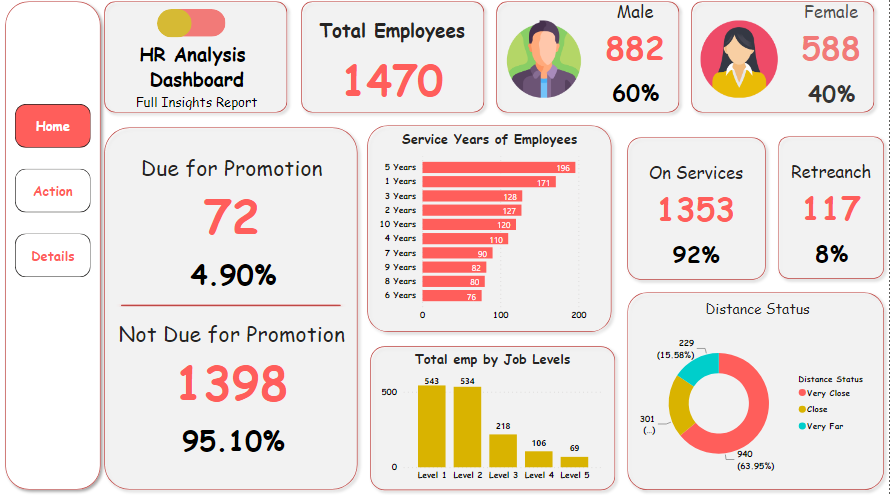

Layout of this report page (visuals, bound fields, positions):
{"tool":"powerbi","page":{"name":"Home","canvas":[1280,720],"ordinal":0},"visuals":[{"type":"shape","box":[0,0,155.2,720],"z":0},{"type":"shape","box":[705.5,0,280.5,178.1],"z":0,"group":"g11"},{"type":"shape","box":[237,19.8,89.6,40.4],"z":0,"group":"g1"},{"type":"card","title":"Total Employees","fields":{"Values":["All Measures.%Female"]},"box":[1128.1,113.5,136.5,56],"z":0,"group":"g4"},{"type":"card","title":"Total Employees","fields":{"Values":["All Measures.%due promotion"]},"box":[154.3,365,363.4,73.4],"z":0,"group":"g16"},{"type":"card","title":"Total Employees","fields":{"Values":["All Measures.%not due"]},"box":[154.3,603.2,363.4,73.4],"z":0,"group":"g17"},{"type":"card","title":"Male","fields":{"Values":["All Measures.Male"]},"box":[845,7.2,138,105.4],"z":1000,"group":"g20"},{"type":"card","title":"Female","fields":{"Values":["All Measures.Female"]},"box":[1126.7,7.2,138,106.3],"z":1000,"group":"g4"},{"type":"shape","box":[227.1,19.8,49.5,41],"z":1000,"group":"g1"},{"type":"shape","box":[142.3,181.1,382.3,538.9],"z":1000,"group":"g6"},{"type":"card","title":"Due for Promotion","fields":{"Values":["All Measures.Due for Promotion"]},"box":[150.5,225.7,367.2,139.3],"z":1000,"group":"g16"},{"type":"card","title":"Retreanch","fields":{"Values":["All Measures.retrench"]},"box":[1126.7,236.7,138,106.3],"z":1000,"group":"g15"},{"type":"card","title":"On Services","fields":{"Values":["All Measures.On Service"]},"box":[904,238.6,195.4,106.3],"z":1000,"group":"g12"},{"type":"shape","box":[893.9,418.2,386.6,301.8],"z":1000},{"type":"card","title":"Not Due for Promotion","fields":{"Values":["All Measures.not due"]},"box":[150.5,463.9,367.2,139.3],"z":1000,"group":"g17"},{"type":"shape","box":[142.9,0,280.5,178.1],"z":2000,"group":"g1"},{"type":"shape","box":[425,0,280.5,178.1],"z":2000,"group":"g10"},{"type":"card","title":"Total Employees","fields":{"Values":["All Measures.% Male"]},"box":[846.4,112.6,136.5,55.6],"z":2000,"group":"g20"},{"type":"shape","box":[520.2,178.2,369.3,314.7],"z":2000,"group":"g7"},{"type":"shape","box":[893.9,195.4,217,222.8],"z":2000},{"type":"card","title":"Total Employees","fields":{"Values":["All Measures.%retrench"]},"box":[1128.1,343,136.5,56],"z":2000,"group":"g15"},{"type":"card","title":"Total Employees","fields":{"Values":["All Measures.%On Service"]},"box":[906,344.9,193.4,56],"z":2000,"group":"g12"},{"type":"textbox","box":[155.2,60.4,257.2,110],"z":3000,"group":"g1"},{"type":"shape","box":[1110.9,194,169.6,222.8],"z":3000},{"type":"shape","box":[524.6,495.8,369.6,225.1],"z":3000,"group":"g8"},{"type":"group","id":"g1","title":"Group 1","box":[142.9,0,280.5,178.1],"z":4000},{"type":"shape","box":[986,0,280.5,178.1],"z":4000,"group":"g5"},{"type":"group","id":"g2","title":"Group 3","box":[425,0,280.5,178.1],"z":5000},{"type":"group","id":"g3","title":"Group 2","box":[705.5,0,280.5,178.1],"z":6000},{"type":"group","id":"g4","title":"Group 2","box":[1126.7,7.2,138,162.4],"z":7000},{"type":"image","box":[718.6,31.6,127.9,120.7],"z":8000},{"type":"group","id":"g5","title":"Group 6","box":[986,0,280.5,178.1],"z":9000},{"type":"group","id":"g6","title":"Group 12","box":[142.3,181.1,382.3,538.9],"z":10000},{"type":"group","id":"g7","title":"Group 13","box":[520.2,178.2,369.3,314.7],"z":11000},{"type":"group","id":"g8","title":"Group 14","box":[524.6,495.8,369.3,224.2],"z":12000},{"type":"card","title":"Total Employees","fields":{"Values":["All Measures.Total emp"]},"box":[436.5,31.6,255.8,136.5],"z":12002,"group":"g10"},{"type":"group","id":"g9","title":"Group 4","box":[425,0,280.5,178.1],"z":12004,"group":"g2"},{"type":"image","box":[1000.2,31.6,126.5,120.7],"z":12007,"group":"g5"},{"type":"group","id":"g10","title":"Group 7","box":[425,0,280.5,178.1],"z":12010,"group":"g9"},{"type":"group","id":"g11","title":"Group 5","box":[705.5,0,280.5,178.1],"z":12012,"group":"g3"},{"type":"group","id":"g12","title":"Group 16","box":[904,238.6,195.4,162.4],"z":13000},{"type":"group","id":"g13","title":"Group 11","box":[150.5,225.7,367.2,449.8],"z":14000,"group":"g6"},{"type":"group","id":"g14","title":"Group 2","box":[150.5,225.7,367.2,212.7],"z":14000,"group":"g13"},{"type":"group","id":"g15","title":"Group 16","box":[1126.7,236.7,138,162.4],"z":14000},{"type":"group","id":"g16","title":"Group 9","box":[150.5,225.7,367.2,212.7],"z":14002,"group":"g14"},{"type":"group","id":"g17","title":"Group 10","box":[150.5,463.9,367.2,212.7],"z":14002,"group":"g18"},{"type":"clusteredBarChart","title":"Service Years of Employees","fields":{"Category":["HR Analytics Data.Service Years"],"Y":["All Measures.Total emp"]},"box":[540.3,192.6,329.1,284.6],"z":15000,"group":"g7"},{"type":"donutChart","title":"Distance Status","fields":{"Category":["HR Analytics Data.Distance Status"],"Y":["All Measures.Total emp"]},"box":[915.4,436.9,349.2,271.6],"z":15000},{"type":"group","id":"g18","title":"Group 2","box":[150.5,463.9,367.2,212.7],"z":15000,"group":"g13"},{"type":"pageNavigator","box":[12.9,146.6,129.3,270.2],"z":16000},{"type":"columnChart","fields":{"Y":["All Measures.Total emp"],"Category":["HR Analytics Data.Job Levels"]},"box":[545.1,509,329.1,199.8],"z":16000,"group":"g8"},{"type":"shape","box":[166.9,437.4,332.9,11.5],"z":16001,"group":"g13"},{"type":"group","id":"g19","title":"Group 15","box":[845,7.2,138,161],"z":16004,"group":"g11"},{"type":"group","id":"g20","title":"Group 16","box":[845,7.2,138,161],"z":16004,"group":"g19"}]}

Visuals, with their boxes in screenshot pixels (x1, y1, x2, y2), scaled from the page's 1280x720 canvas onto the 890x495 screenshot:
shape: (0, 0, 108, 494)
shape: (491, 0, 686, 122)
shape: (165, 14, 227, 41)
"Total Employees" card: (784, 78, 879, 117)
"Total Employees" card: (107, 251, 360, 301)
"Total Employees" card: (107, 415, 360, 465)
"Male" card: (588, 5, 683, 77)
"Female" card: (783, 5, 879, 78)
shape: (158, 14, 192, 42)
shape: (99, 125, 365, 494)
"Due for Promotion" card: (105, 155, 360, 251)
"Retreanch" card: (783, 163, 879, 236)
"On Services" card: (629, 164, 764, 237)
shape: (622, 288, 889, 494)
"Not Due for Promotion" card: (105, 319, 360, 415)
shape: (99, 0, 294, 122)
shape: (296, 0, 491, 122)
"Total Employees" card: (589, 77, 683, 116)
shape: (362, 123, 618, 339)
shape: (622, 134, 772, 288)
"Total Employees" card: (784, 236, 879, 274)
"Total Employees" card: (630, 237, 764, 276)
textbox: (108, 42, 287, 117)
shape: (772, 133, 889, 287)
shape: (365, 341, 622, 494)
"Group 1" group: (99, 0, 294, 122)
shape: (686, 0, 881, 122)
"Group 3" group: (296, 0, 491, 122)
"Group 2" group: (491, 0, 686, 122)
"Group 2" group: (783, 5, 879, 117)
image: (500, 22, 589, 105)
"Group 6" group: (686, 0, 881, 122)
"Group 12" group: (99, 125, 365, 494)
"Group 13" group: (362, 123, 618, 339)
"Group 14" group: (365, 341, 622, 494)
"Total Employees" card: (304, 22, 481, 116)
"Group 4" group: (296, 0, 491, 122)
image: (695, 22, 783, 105)
"Group 7" group: (296, 0, 491, 122)
"Group 5" group: (491, 0, 686, 122)
"Group 16" group: (629, 164, 764, 276)
"Group 11" group: (105, 155, 360, 464)
"Group 2" group: (105, 155, 360, 301)
"Group 16" group: (783, 163, 879, 274)
"Group 9" group: (105, 155, 360, 301)
"Group 10" group: (105, 319, 360, 465)
"Service Years of Employees" clusteredBarChart: (376, 132, 605, 328)
"Distance Status" donutChart: (636, 300, 879, 487)
"Group 2" group: (105, 319, 360, 465)
pageNavigator: (9, 101, 99, 287)
columnChart - All Measures.Total emp x HR Analytics Data.Job Levels: (379, 350, 608, 487)
shape: (116, 301, 348, 309)
"Group 15" group: (588, 5, 683, 116)
"Group 16" group: (588, 5, 683, 116)
